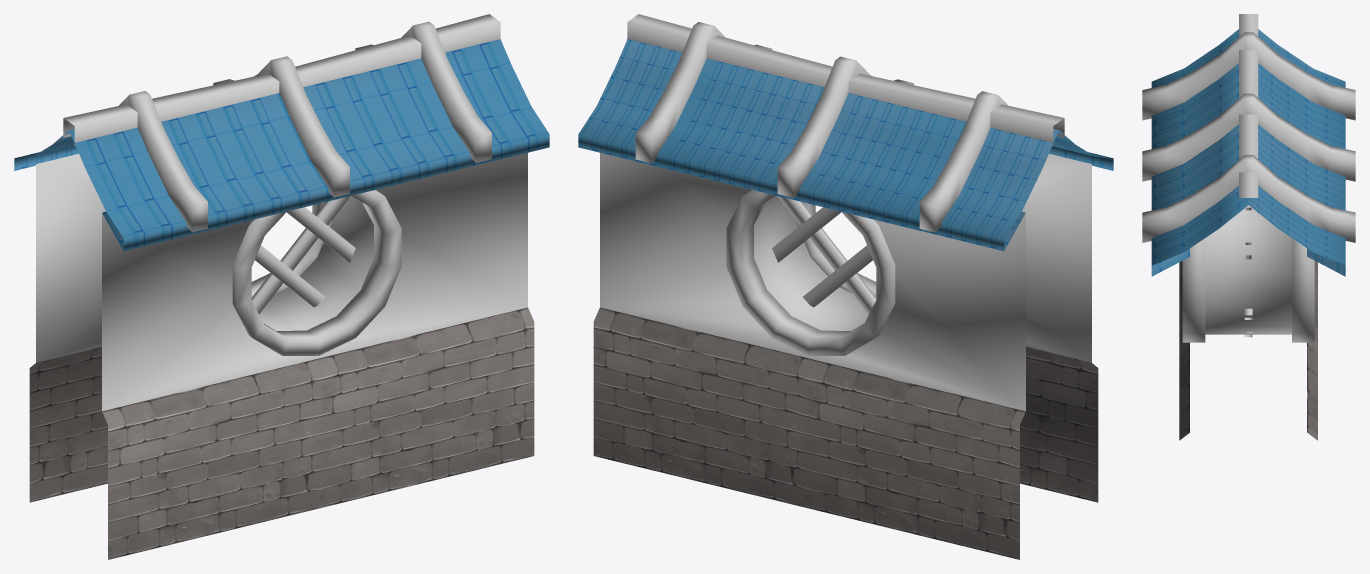
The model's file is GardenWall_2.fbx.
The picture shows the model from 3 angles, left to right: view 1: azimuth 30°, elevation 25°; view 2: azimuth 150°, elevation 25°; view 3: azimuth 270°, elevation 25°; orthographic projection. The views are drawn at different scales.
Parts seen in each view (by area): view 1: GardenWall_2; view 2: GardenWall_2; view 3: GardenWall_2.
Part boxes in pixels (x1=…): GardenWall_2: x1=14, y1=14, x2=549, y2=559; GardenWall_2: x1=578, y1=14, x2=1113, y2=559; GardenWall_2: x1=1142, y1=14, x2=1355, y2=440.
Size of the model in its own units: 3 by 2.82 by 1.47.
